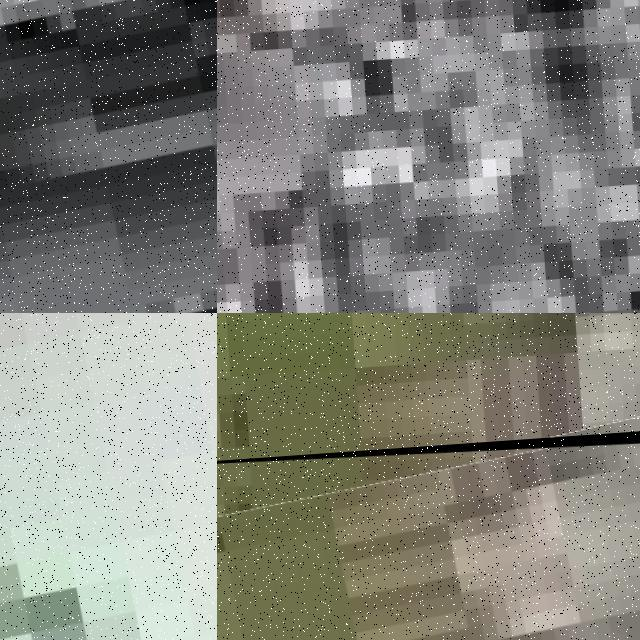0: (217, 424, 640, 640), (0, 0, 217, 313)
drone: (0, 313, 217, 640)
